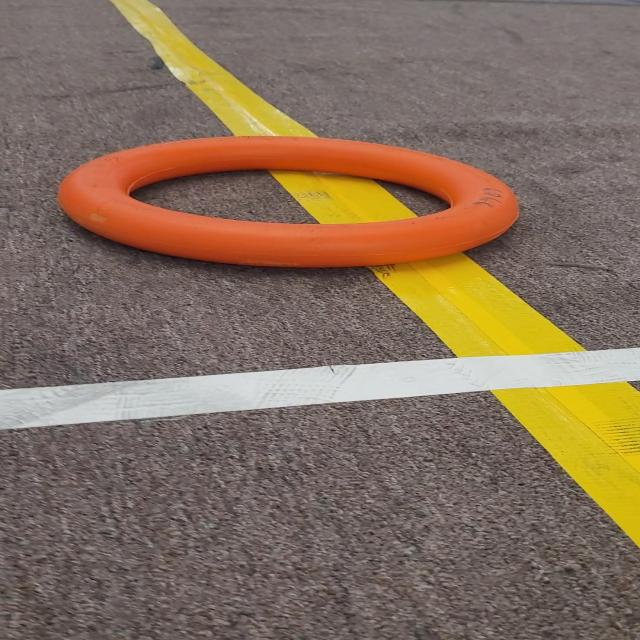note: (41, 126, 542, 276)
